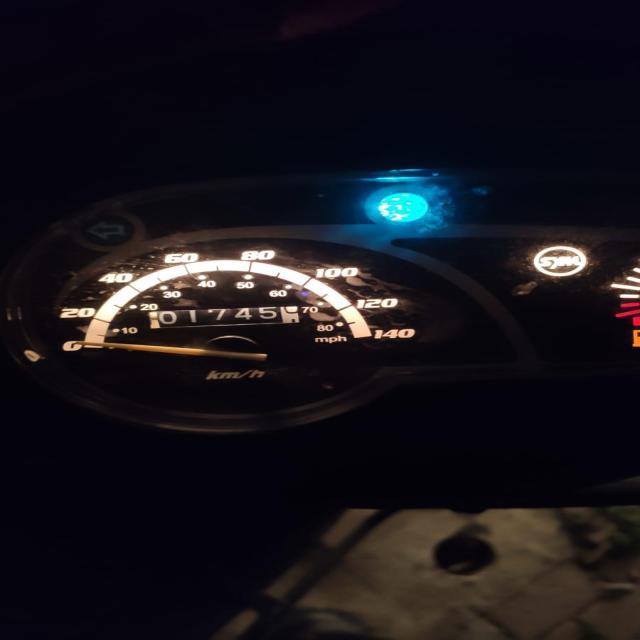odometer: (144, 304, 302, 329)
